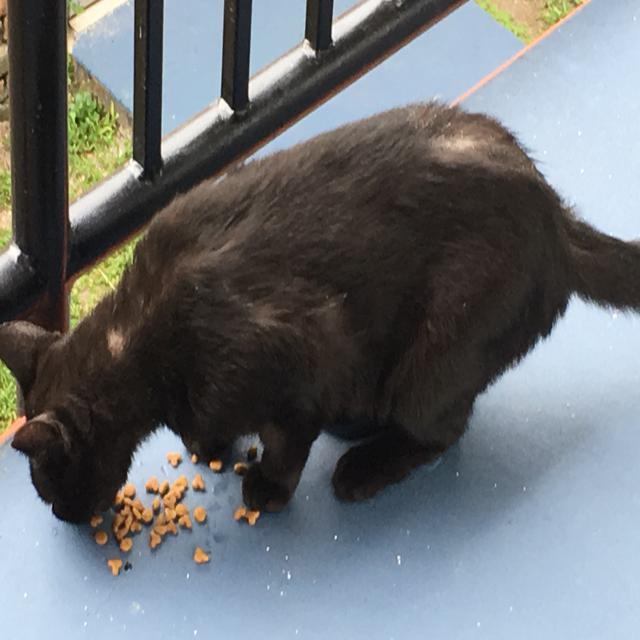hairloss: (434, 127, 485, 155), (109, 323, 121, 355)
